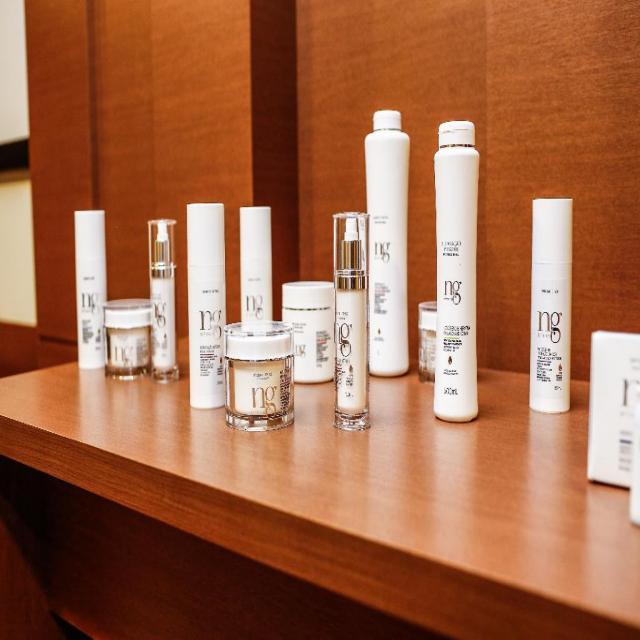Table: (0, 273, 606, 635)
